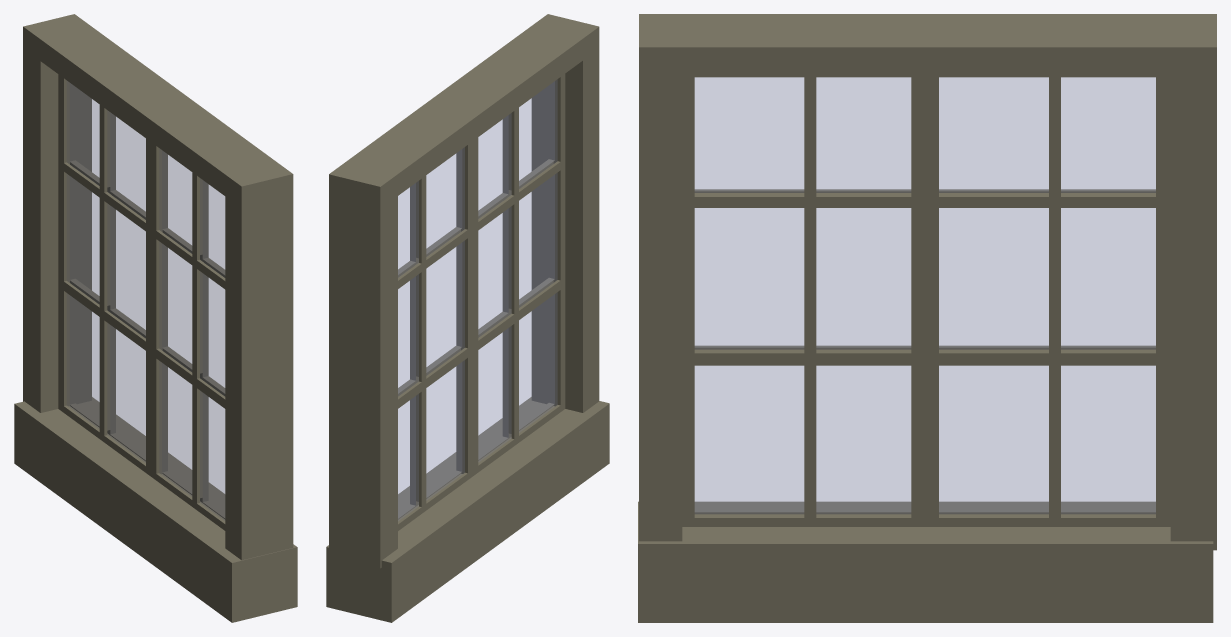
Rendered from window.fbx.
3 views of the same model, side by side, from view 1: azimuth 30°, elevation 25°; view 2: azimuth 150°, elevation 25°; view 3: azimuth 270°, elevation 25° (orthographic). The views are drawn at different scales.
Visible parts, largest first — view 1: pCube2, pCube3, pCube1, pCube4; view 2: pCube2, pCube1, pCube3, pCube4; view 3: pCube3, pCube1, pCube2, pCube4.
Boxes of the visible parts, box(x1,y1,x2,y2) form: pCube2: box(23, 14, 293, 560); pCube3: box(58, 74, 162, 476); pCube1: box(150, 142, 225, 530); pCube4: box(14, 397, 297, 622); pCube2: box(329, 14, 599, 568); pCube1: box(461, 74, 565, 475); pCube3: box(398, 141, 472, 530); pCube4: box(326, 397, 609, 622); pCube3: box(925, 76, 1170, 526); pCube1: box(682, 76, 926, 526); pCube2: box(639, 14, 1216, 550); pCube4: box(638, 501, 1213, 622).
Bounding box in the file's own units: 1.14 × 7.24 × 6.63.
